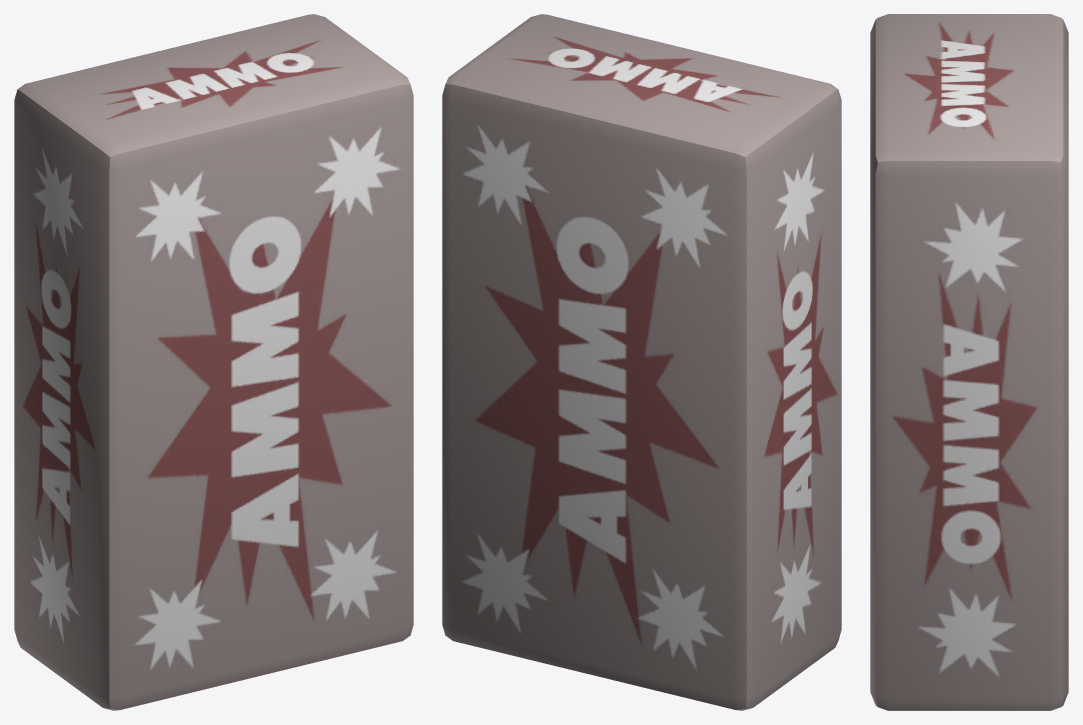
The model's file is ammo explosive.glb.
3 views of the same model, side by side, from view 1: azimuth 30°, elevation 25°; view 2: azimuth 150°, elevation 25°; view 3: azimuth 270°, elevation 25° (orthographic).
Visible parts, largest first — view 1: Explosive_Ammo; view 2: Explosive_Ammo; view 3: Explosive_Ammo.
Part boxes in pixels (x1,y1,x2,y2): Explosive_Ammo: [14, 14, 413, 710]; Explosive_Ammo: [442, 14, 841, 710]; Explosive_Ammo: [870, 14, 1068, 710].
Size of the model in its own units: 0.5489 by 0.9506 by 0.3049.
Materials: 1 (1 with a texture image).
